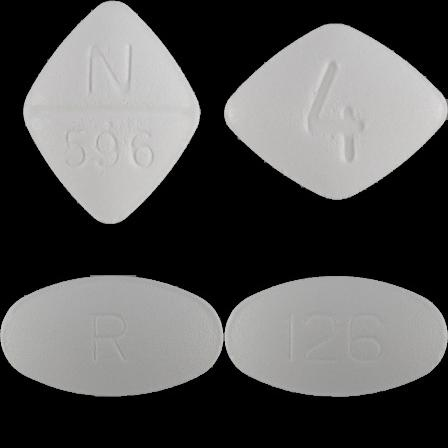35356-927: (0, 0, 224, 224)
